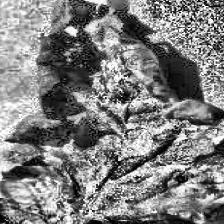Angular Leafspot: (90, 19, 150, 105), (35, 135, 121, 192), (152, 120, 224, 167), (113, 155, 152, 178), (105, 212, 174, 224)
